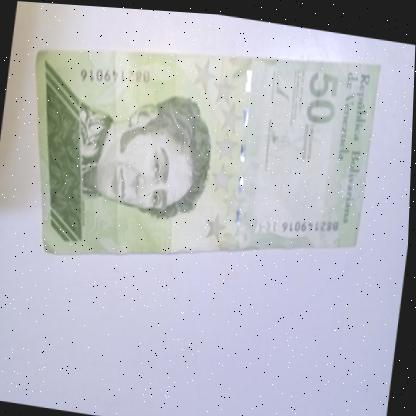fifty-front-vef: (13, 8, 383, 296)
